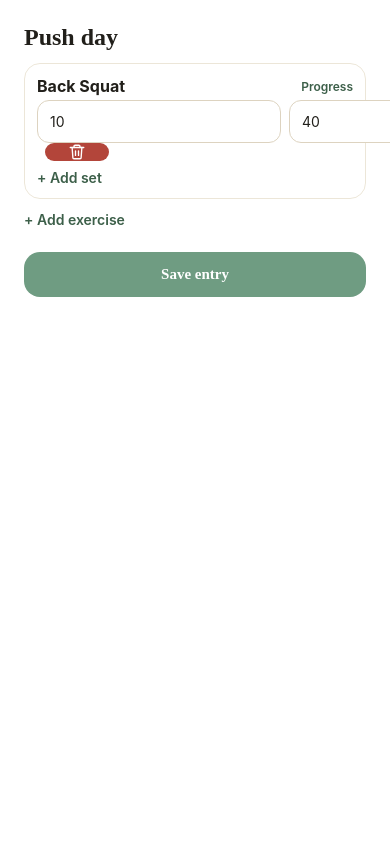
JournalEntryScreen › prompts to save or discard when leaving with unsaved changes
Replace the text in the field with test id "journal-entry-0-reps-0" with "12" at (159, 122), box [37,100,281,143]
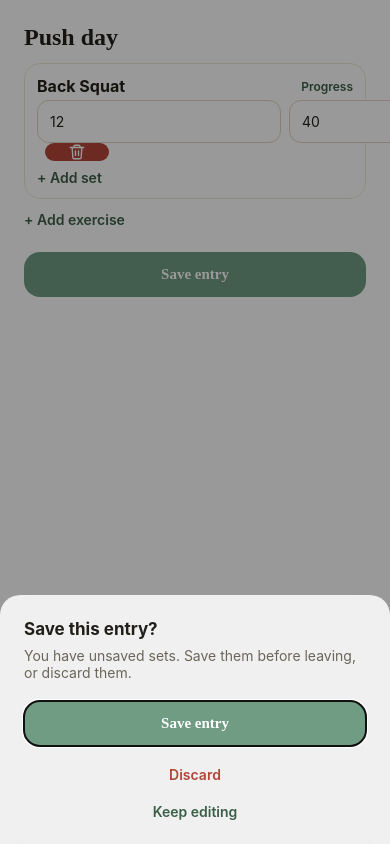
Expected: the dialog with test id "save-discard-sheet" is shown
